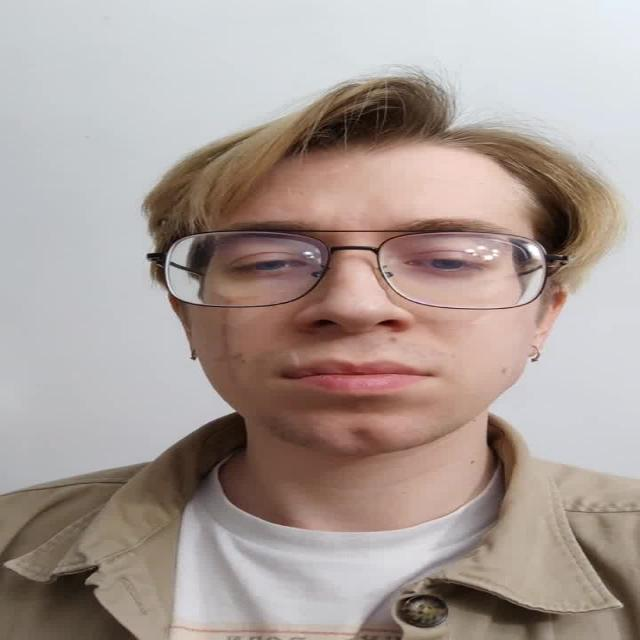earlobe: (525, 284, 569, 358), (166, 291, 197, 361)
